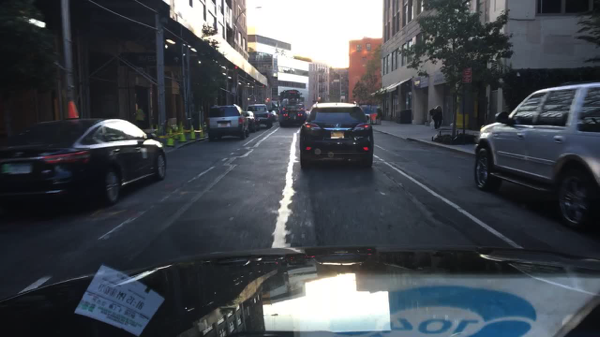bus: (278, 89, 304, 105)
car: (0, 99, 167, 210), (474, 82, 599, 230), (298, 98, 373, 170), (205, 102, 249, 142), (248, 103, 270, 129), (278, 106, 304, 125), (241, 110, 260, 131), (303, 110, 310, 119)
person: (427, 103, 443, 130), (133, 103, 147, 127)
traffic sign: (461, 67, 471, 84)
